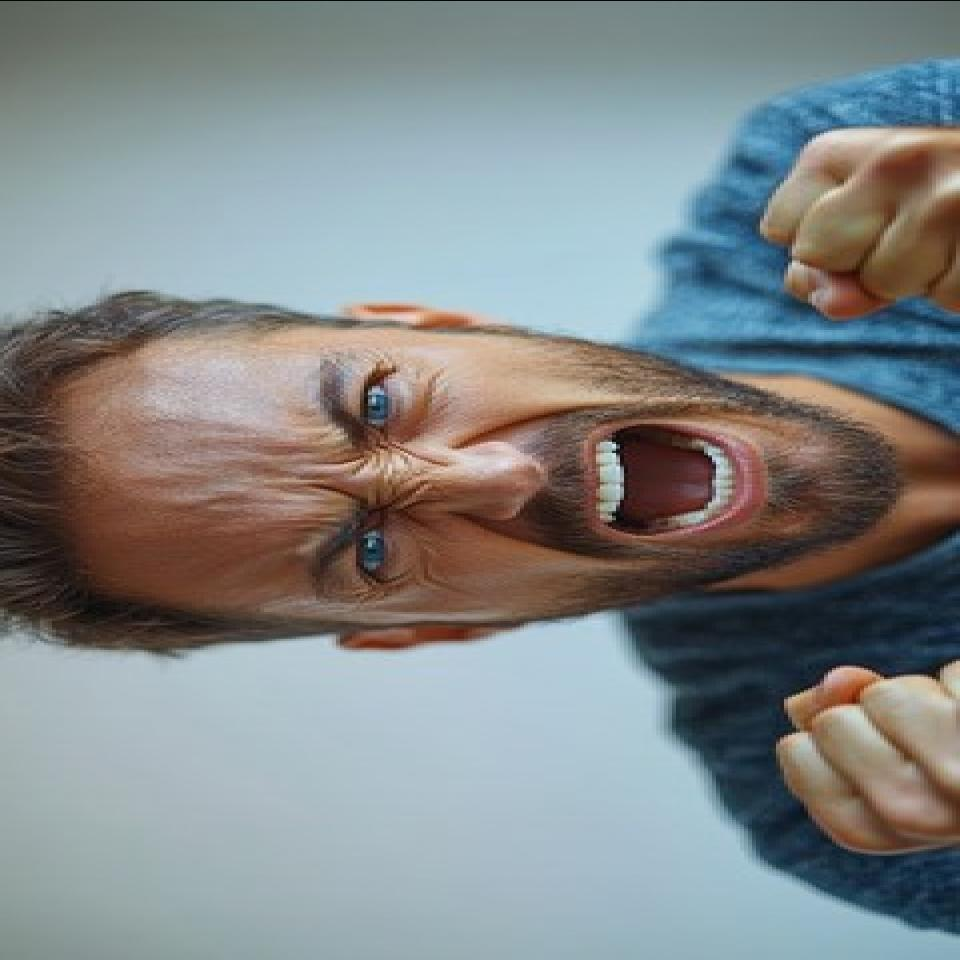Anger: (231, 324, 883, 632)
